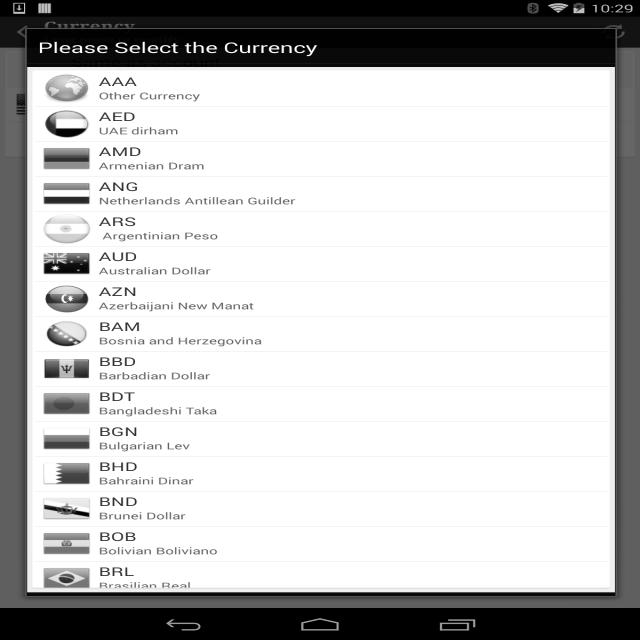ImageView: (37, 71, 84, 591)
TextView: (100, 72, 174, 587), (36, 37, 333, 56)
